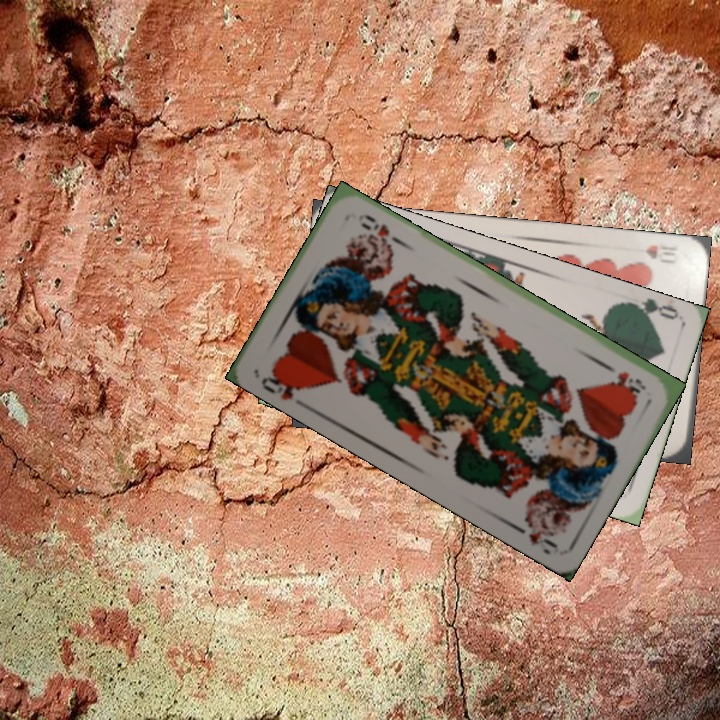GO: (621, 296, 681, 326)
H10: (642, 240, 680, 262)
HO: (257, 365, 312, 403), (598, 359, 649, 396)
